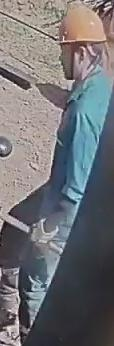gloves: (25, 216, 59, 247)
helmet: (56, 2, 107, 51)
vest: (30, 65, 113, 208)
